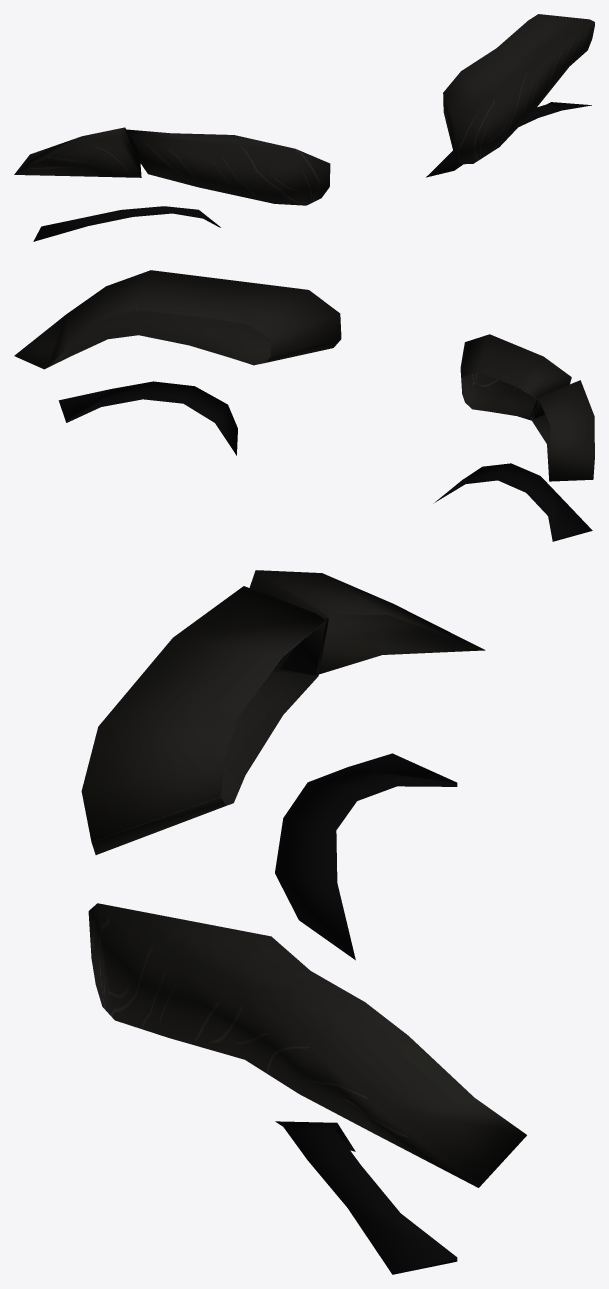
File: brous9.fbx
3 renders of one model, top to bottom at view 1: azimuth 30°, elevation 25°; view 2: azimuth 150°, elevation 25°; view 3: azimuth 270°, elevation 25°, orthographic. The views are drawn at different scales.
Parts seen in each view (by area): view 1: brous9; view 2: brous9; view 3: brous9.
Boxes of the visible parts, x1,y1,x2,y2 form: brous9: (14,14,594,241); brous9: (14,270,594,541); brous9: (81,570,526,1274).
Size of the model in its own units: 11.44 by 2.64 by 3.9.
